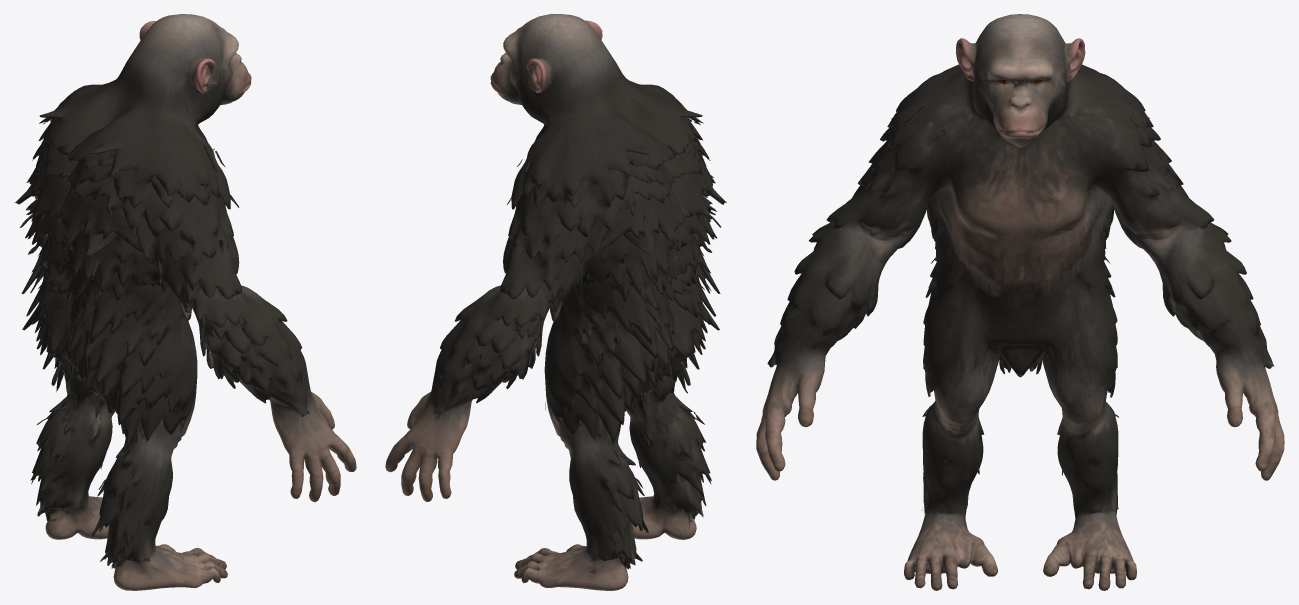
The model's file is chimp.glb.
The picture shows the model from 3 angles, left to right: view 1: azimuth 30°, elevation 25°; view 2: azimuth 150°, elevation 25°; view 3: azimuth 270°, elevation 25°; orthographic projection. The views are drawn at different scales.
Visible parts, largest first — view 1: tripo_node_cef74aeb; view 2: tripo_node_cef74aeb; view 3: tripo_node_cef74aeb.
Part boxes in pixels (<box>): tripo_node_cef74aeb: <box>15,14,356,590</box>; tripo_node_cef74aeb: <box>385,14,726,590</box>; tripo_node_cef74aeb: <box>756,14,1284,590</box>.
Size of the model in its own units: 0.401 by 1 by 0.8365.
1 material, 1 textured.
